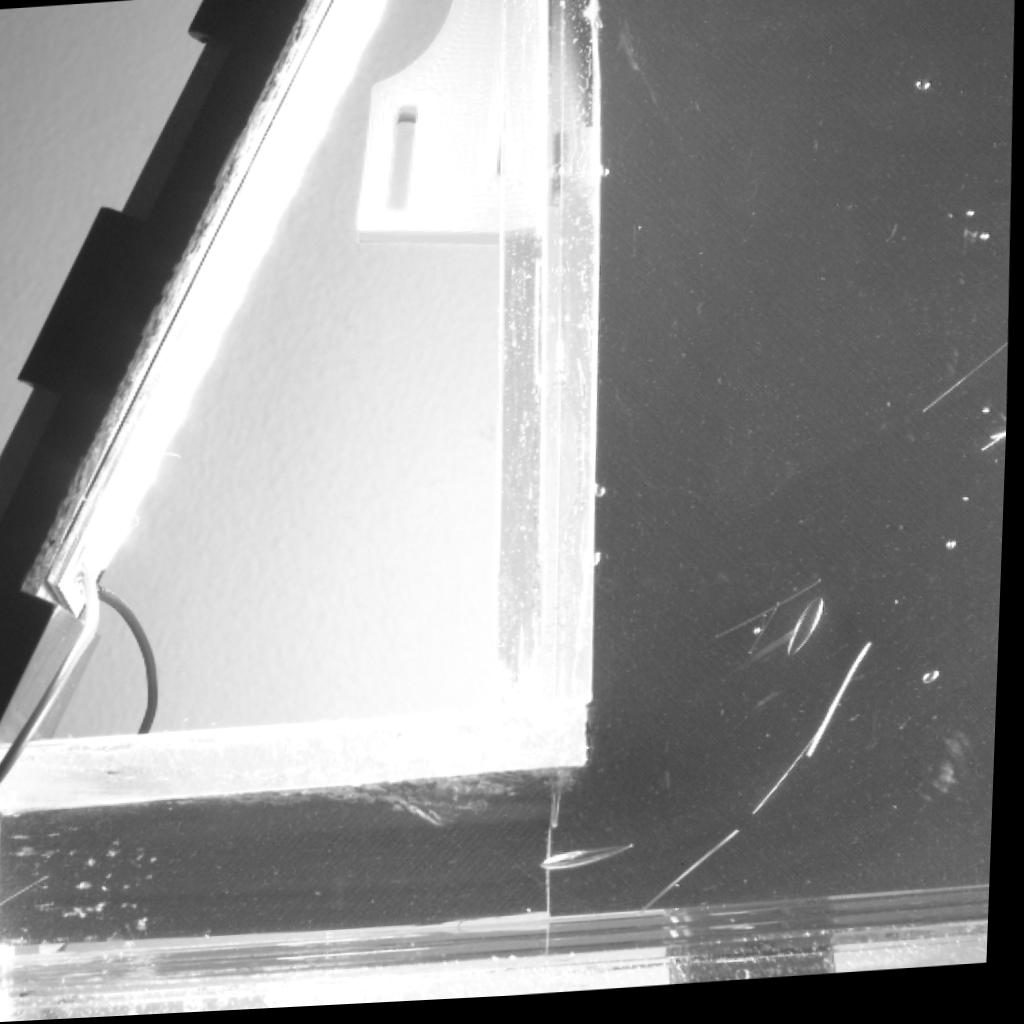Fiber: (642, 835, 750, 923), (812, 650, 880, 767), (717, 588, 829, 652), (924, 353, 1010, 423), (754, 746, 822, 828), (0, 877, 55, 915), (982, 443, 1009, 464)
